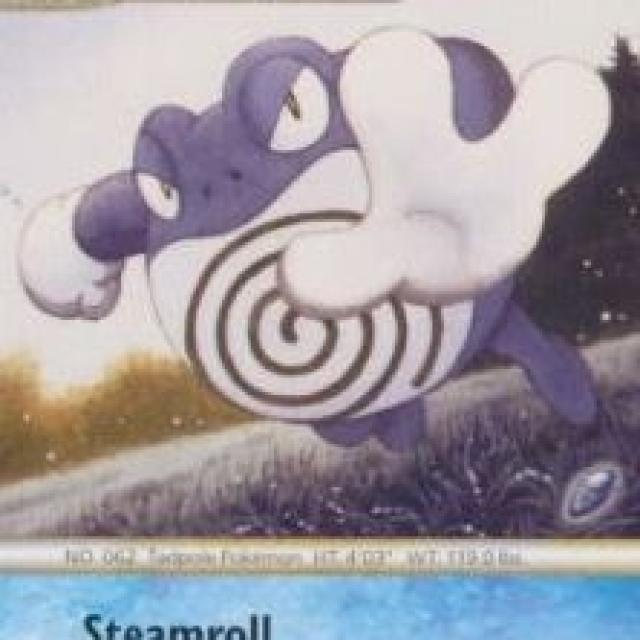Poliwrath: (87, 35, 556, 440)
